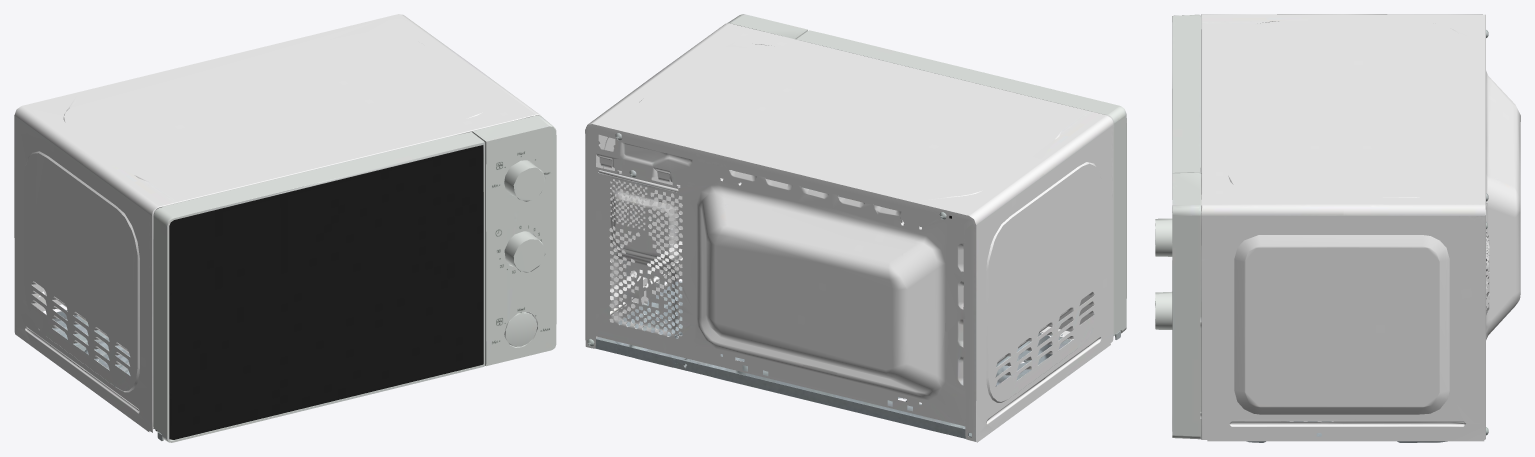
Rendered from tillreda_kuchenka_mikrofalowa_50486792.glb.
3 renders of one model, left to right at view 1: azimuth 30°, elevation 25°; view 2: azimuth 150°, elevation 25°; view 3: azimuth 270°, elevation 25°, orthographic. The views are drawn at different scales.
Visible parts, largest first — view 1: tillreda_kuchenka_mikrofalowa_50486792; view 2: tillreda_kuchenka_mikrofalowa_50486792; view 3: tillreda_kuchenka_mikrofalowa_50486792.
Boxes of the visible parts, box(x1,y1,x2,y2) form: tillreda_kuchenka_mikrofalowa_50486792: box(14, 14, 556, 442); tillreda_kuchenka_mikrofalowa_50486792: box(585, 14, 1126, 442); tillreda_kuchenka_mikrofalowa_50486792: box(1155, 14, 1520, 442).
Size of the model in its own units: 0.4397 by 0.2581 by 0.3396.
2 materials, 2 textured.
